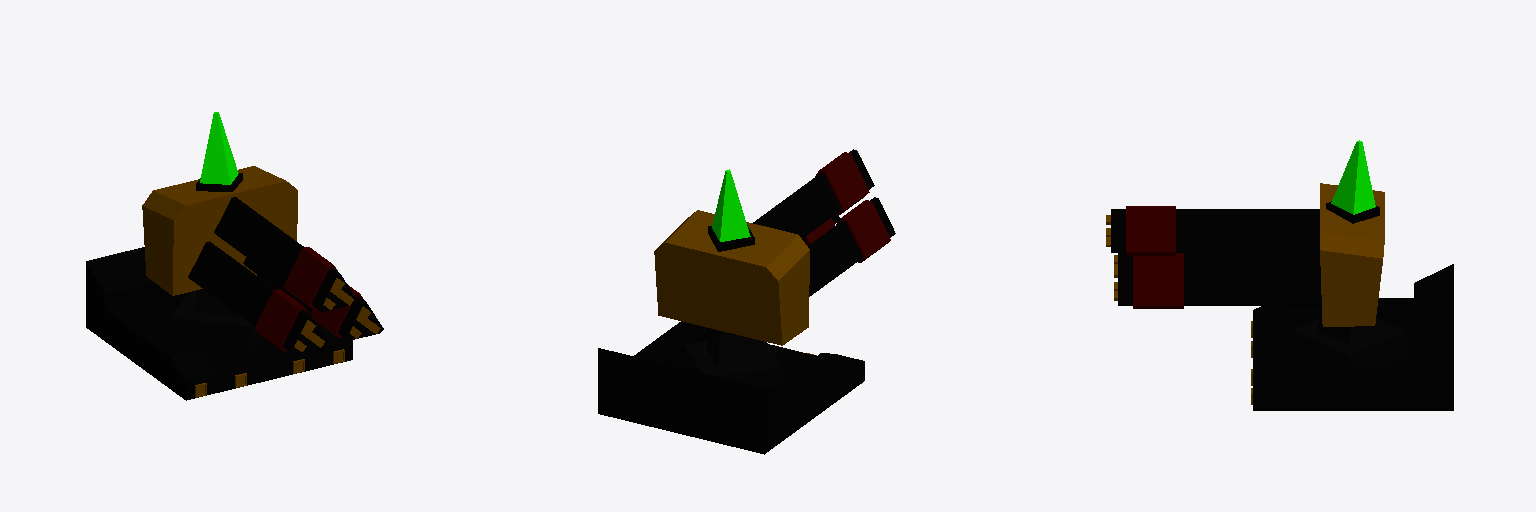
Rendered from GunCannonTurret.obj.
3 renders of one model, left to right at view 1: azimuth 30°, elevation 25°; view 2: azimuth 150°, elevation 25°; view 3: azimuth 270°, elevation 25°, orthographic.
Visible parts, largest first — view 1: GunCannonTurret1, BaseCannonTurret1, MiddleCannonTurret1; view 2: GunCannonTurret1, BaseCannonTurret1, MiddleCannonTurret1; view 3: GunCannonTurret1, BaseCannonTurret1, MiddleCannonTurret1.
Boxes of the visible parts, x1,y1,x2,y2 form: GunCannonTurret1: [142, 112, 383, 354]; BaseCannonTurret1: [86, 247, 352, 400]; MiddleCannonTurret1: [171, 289, 261, 352]; GunCannonTurret1: [654, 149, 895, 345]; BaseCannonTurret1: [598, 321, 864, 454]; MiddleCannonTurret1: [683, 328, 783, 389]; GunCannonTurret1: [1106, 140, 1384, 326]; BaseCannonTurret1: [1251, 264, 1453, 410]; MiddleCannonTurret1: [1291, 306, 1406, 364].
Size of the model in its own units: 2.66 by 3.5 by 4.81.